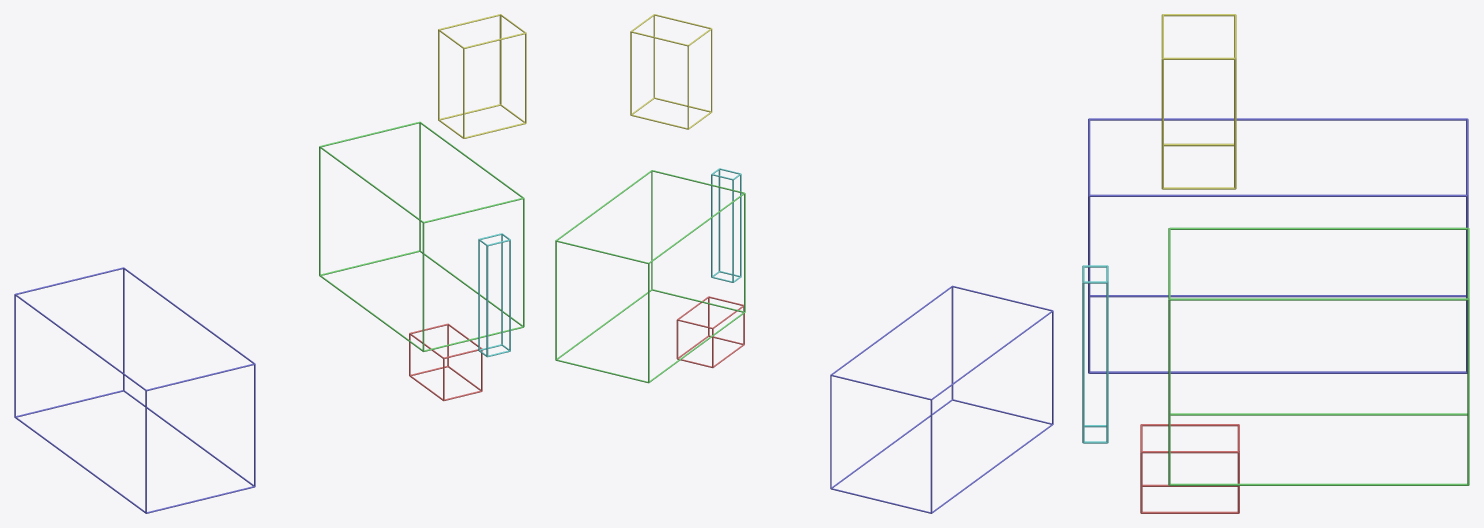
3 renders of one model, left to right at view 1: azimuth 30°, elevation 25°; view 2: azimuth 150°, elevation 25°; view 3: azimuth 270°, elevation 25°, orthographic. The views are drawn at different scales.
Parts seen in each view (by area): view 1: world; view 2: world; view 3: world.
Part boxes in pixels (x1,y1,x2,y2): world: [14, 14, 526, 513]; world: [555, 14, 1053, 513]; world: [1082, 14, 1469, 513].
Size of the model in its own units: 2.77 by 2.37 by 1.59.
